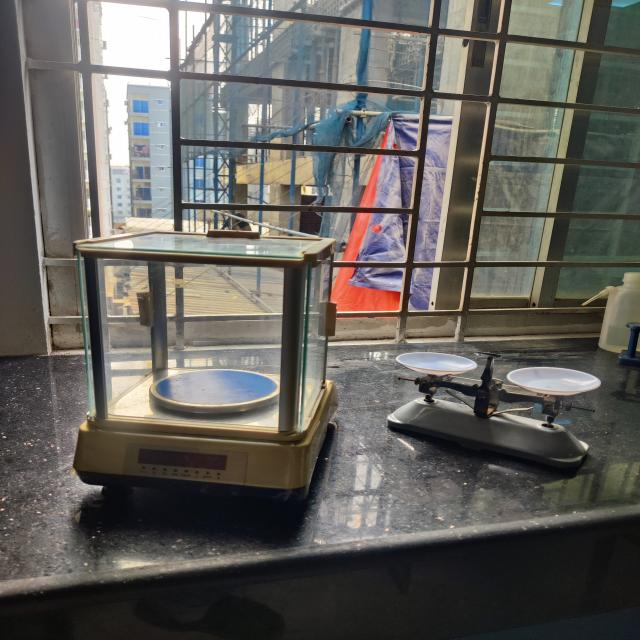Mechanical_Balance_Scale: (376, 331, 606, 481)
Precision_Weight_Scale: (54, 213, 347, 520)
